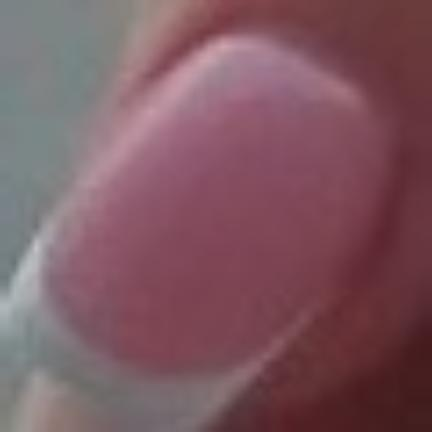Nail: (9, 25, 396, 425)
